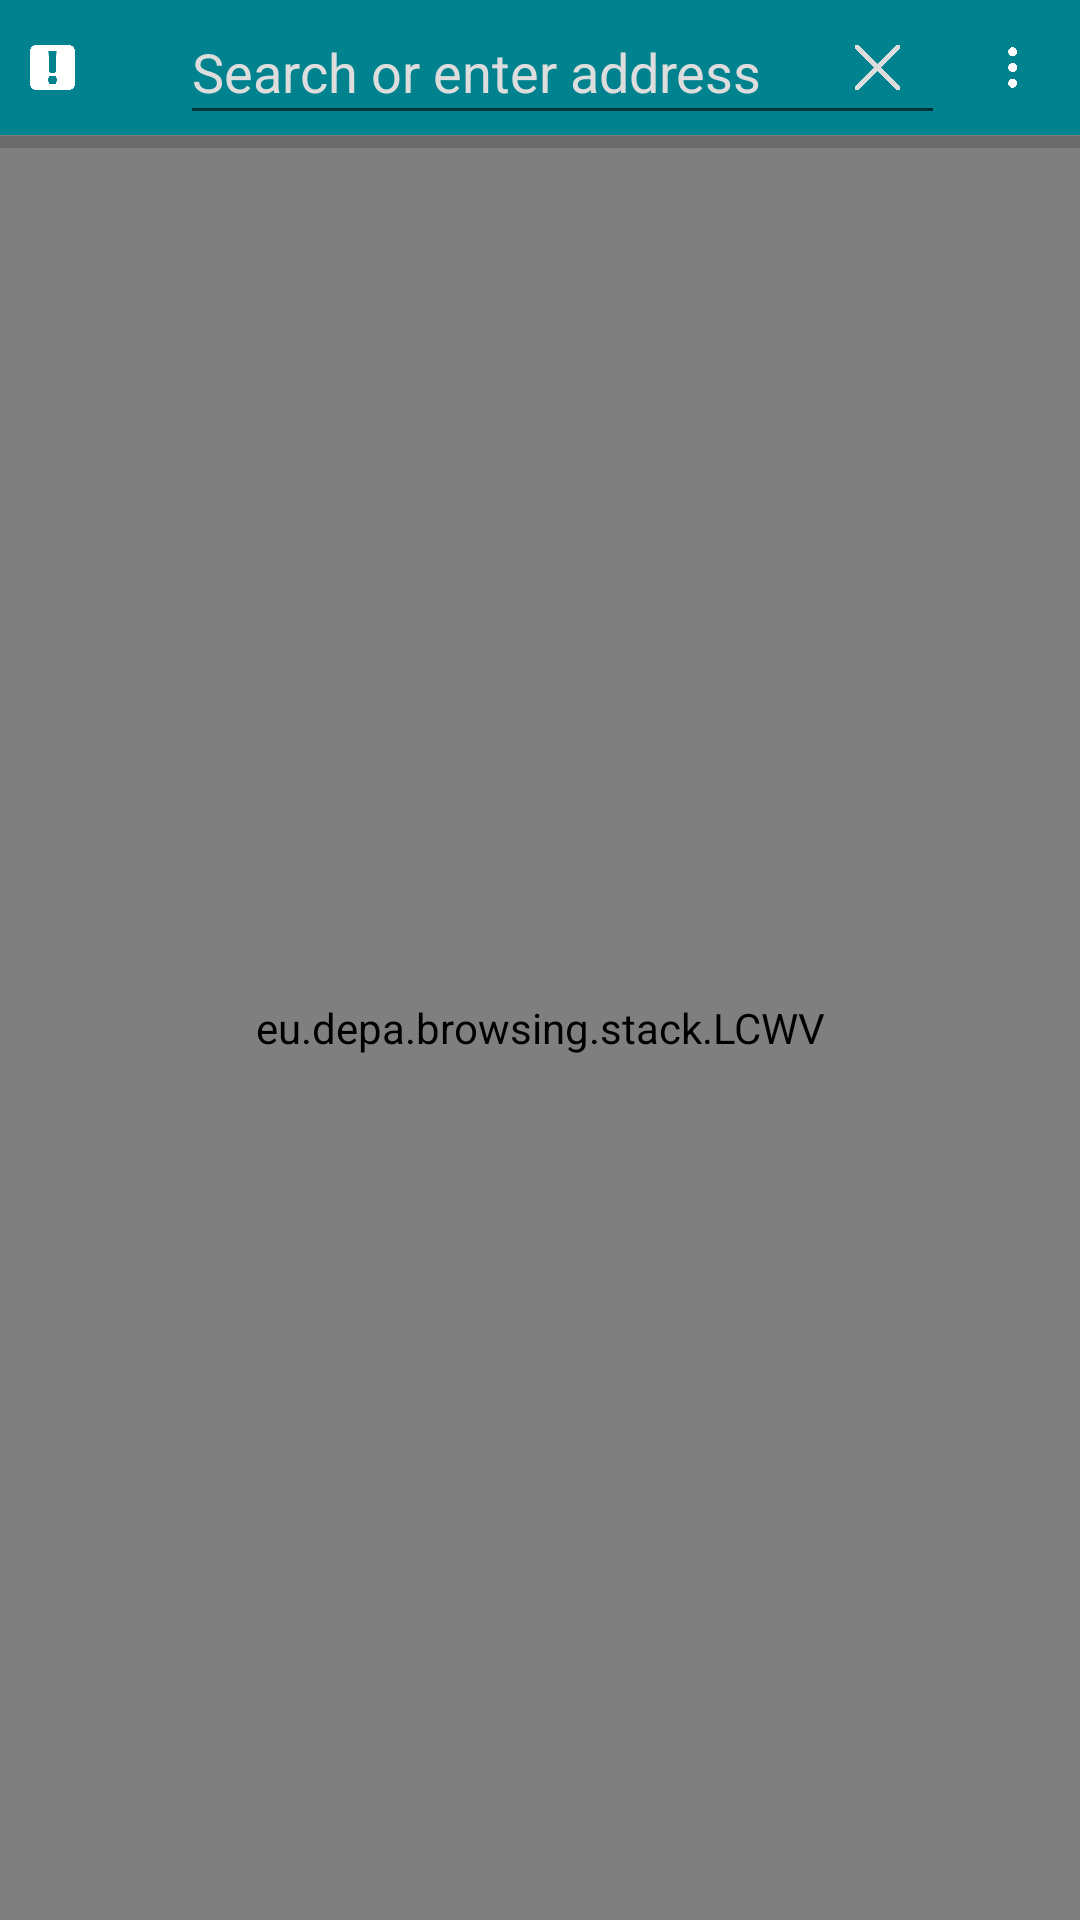

Named icons in this screenshot (1080w x 1920h) and their centers, [x,y]:
A bang btn for DDG searches: [52,67]
dots: [1012,67]
X button to empty the text box: [877,67]
